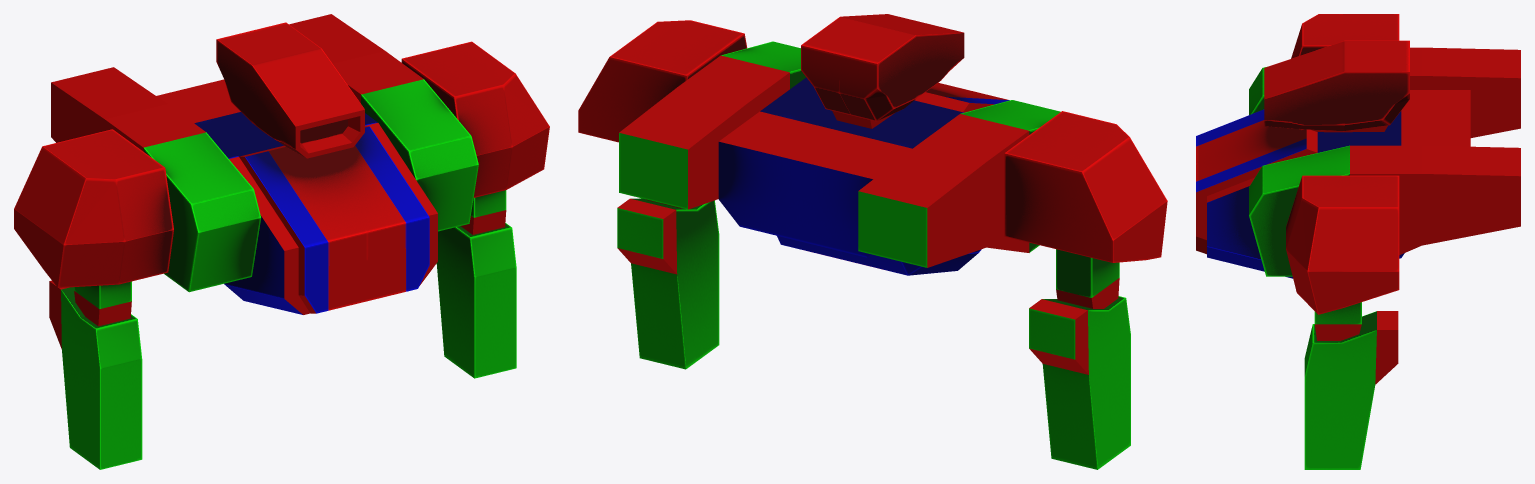
File: lightbody.glb
The picture shows the model from 3 angles, left to right: view 1: azimuth 30°, elevation 25°; view 2: azimuth 150°, elevation 25°; view 3: azimuth 270°, elevation 25°; orthographic projection. The views are drawn at different scales.
Parts seen in each view (by area): view 1: Cube.032; view 2: Cube.032; view 3: Cube.032.
Part boxes in pixels (x1,y1,x2,y2): Cube.032: [14, 14, 549, 469]; Cube.032: [578, 14, 1167, 469]; Cube.032: [1196, 14, 1520, 469].
Bounding box in the file's own units: 4.67 × 3.18 × 2.93.
1 material, 1 textured.
